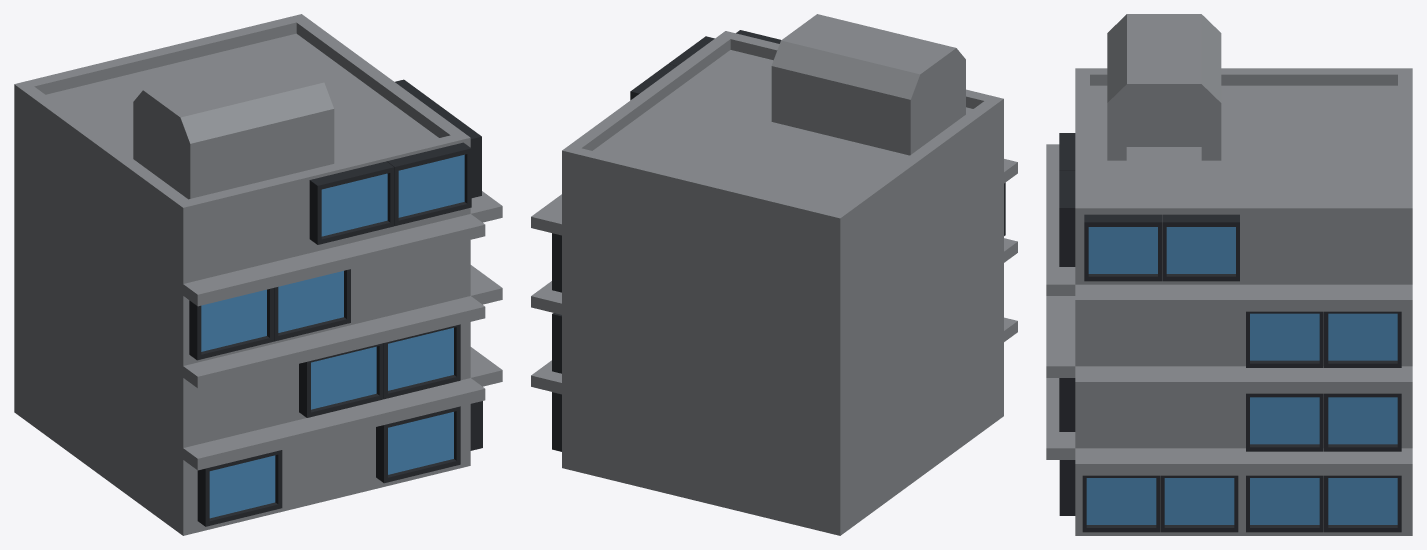
Rendered from BUILDING2.fbx.
The picture shows the model from 3 angles, left to right: view 1: azimuth 30°, elevation 25°; view 2: azimuth 150°, elevation 25°; view 3: azimuth 270°, elevation 25°; orthographic projection. The views are drawn at different scales.
Parts seen in each view (by area): view 1: Cube.018; view 2: Cube.018; view 3: Cube.018.
Part boxes in pixels (<box>): Cube.018: <box>14,14,502,535</box>; Cube.018: <box>531,14,1017,535</box>; Cube.018: <box>1046,14,1412,535</box>.
Bounding box in the file's own units: 7744 × 9120 × 7706.
